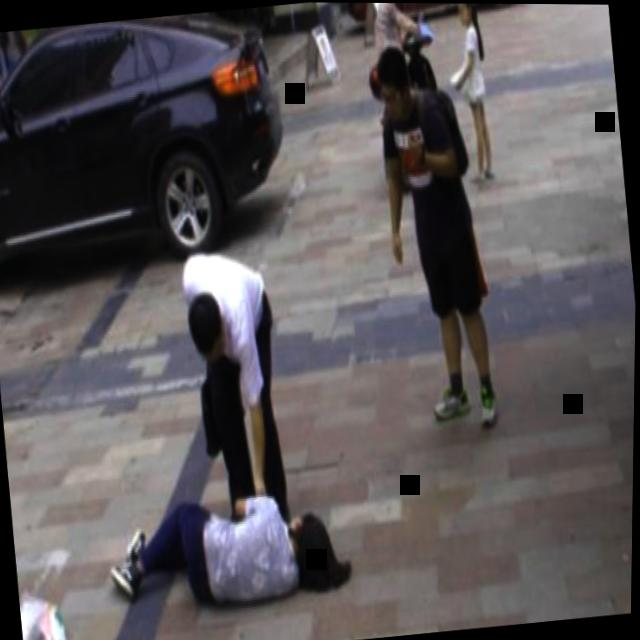Fall-Detected: (91, 458, 364, 620)
